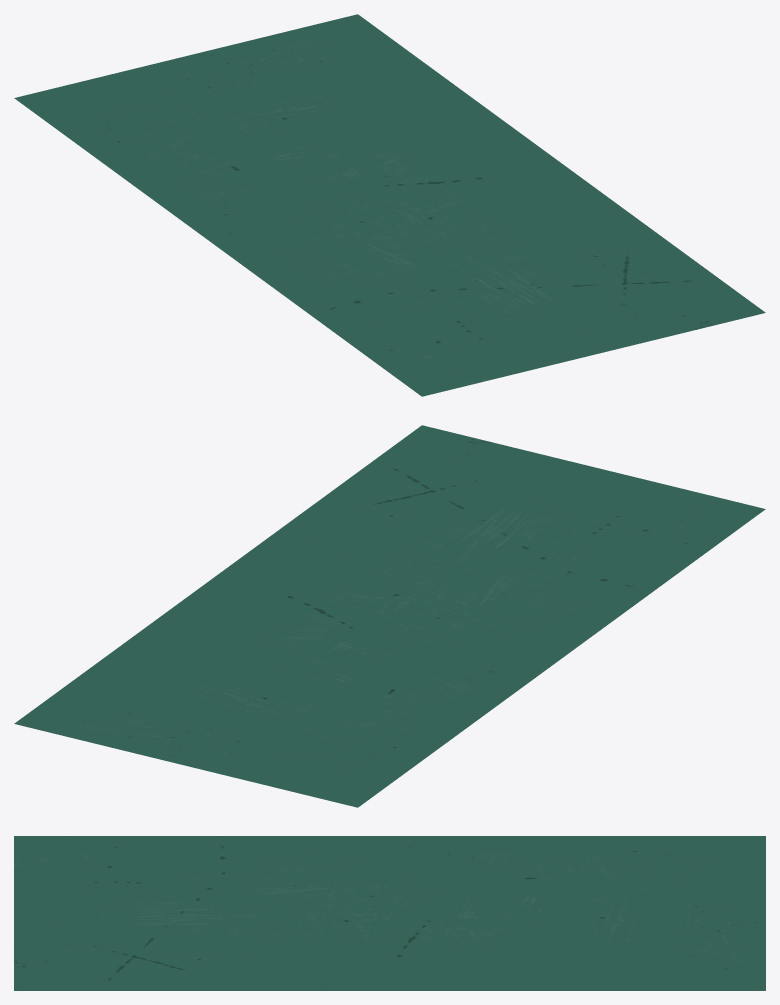
The model's file is 4 yuka2.fbx.
The picture shows the model from 3 angles, top to bottom: view 1: azimuth 30°, elevation 25°; view 2: azimuth 150°, elevation 25°; view 3: azimuth 270°, elevation 25°; orthographic projection. The views are drawn at different scales.
Parts seen in each view (by area): view 1: polySurface220.001; view 2: polySurface220.001; view 3: polySurface220.001.
Boxes of the visible parts, x1,y1,x2,y2 form: polySurface220.001: [14, 14, 765, 396]; polySurface220.001: [14, 425, 765, 807]; polySurface220.001: [14, 836, 765, 990].
Bounding box in the file's own units: 31.19 × 5.77e-06 × 64.09.
1 material, 1 textured.
